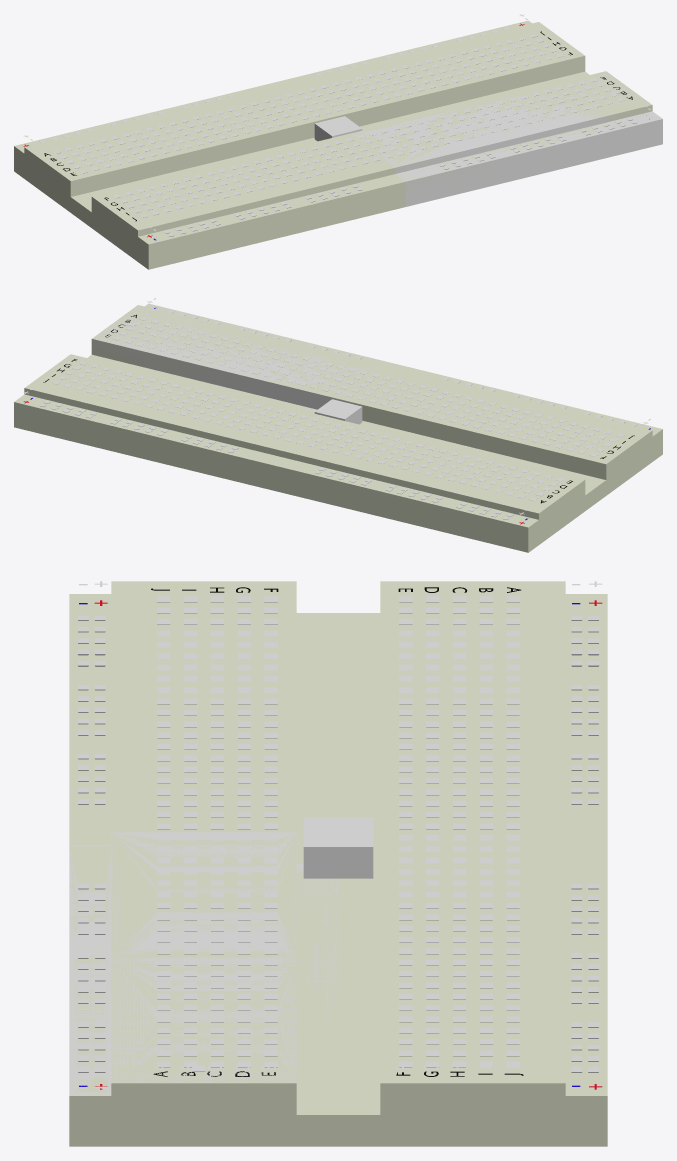
The model's file is Bread.dae.
3 renders of one model, top to bottom at view 1: azimuth 30°, elevation 25°; view 2: azimuth 150°, elevation 25°; view 3: azimuth 270°, elevation 25°, orthographic. The views are drawn at different scales.
Visible parts, largest first — view 1: QuarterBoard.001, QuarterBoard_Proto, QuarterBoard.002, QuarterBoard.003, Cube; view 2: QuarterBoard.001, QuarterBoard.003, QuarterBoard_Proto, QuarterBoard.002, Cube; view 3: QuarterBoard.001, QuarterBoard_Proto, QuarterBoard.003, QuarterBoard.002, Cube.
Part boxes in pixels (<box>): QuarterBoard.001: <box>24,22,652,261</box>; QuarterBoard_Proto: <box>353,73,662,206</box>; QuarterBoard.002: <box>138,114,649,269</box>; QuarterBoard.003: <box>14,20,531,178</box>; Cube: <box>314,116,362,141</box>; QuarterBoard.001: <box>24,305,652,544</box>; QuarterBoard.003: <box>14,394,538,552</box>; QuarterBoard_Proto: <box>90,304,390,411</box>; QuarterBoard.002: <box>145,303,662,461</box>; Cube: <box>314,399,362,424</box>; QuarterBoard.001: <box>111,581,565,1146</box>; QuarterBoard_Proto: <box>69,832,338,1095</box>; QuarterBoard.003: <box>565,594,607,1146</box>; QuarterBoard.002: <box>69,594,111,1146</box>; Cube: <box>303,817,373,878</box>.
Size of the model in its own units: 34 by 15.4 by 2.2.
